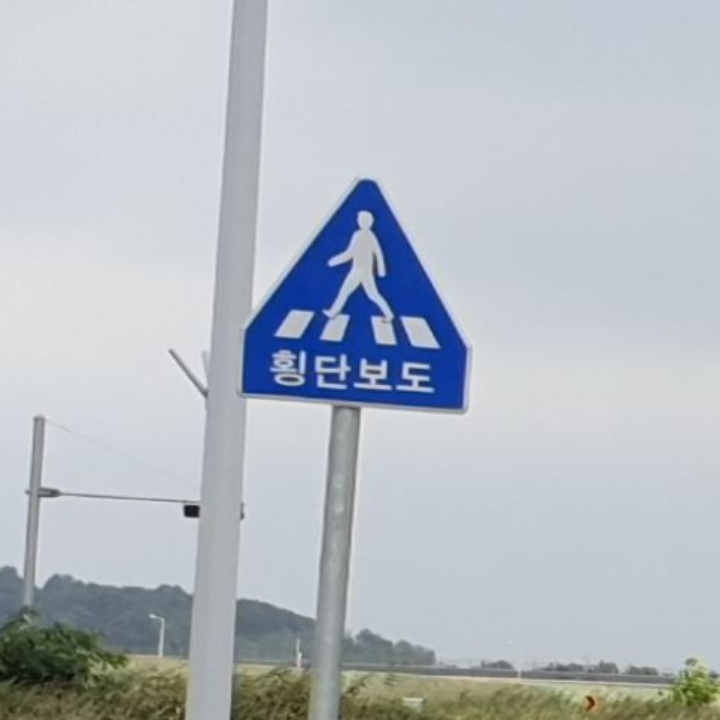cross: (319, 196, 410, 331)
